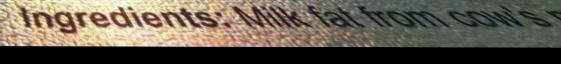ingredients: (17, 5, 558, 40)
